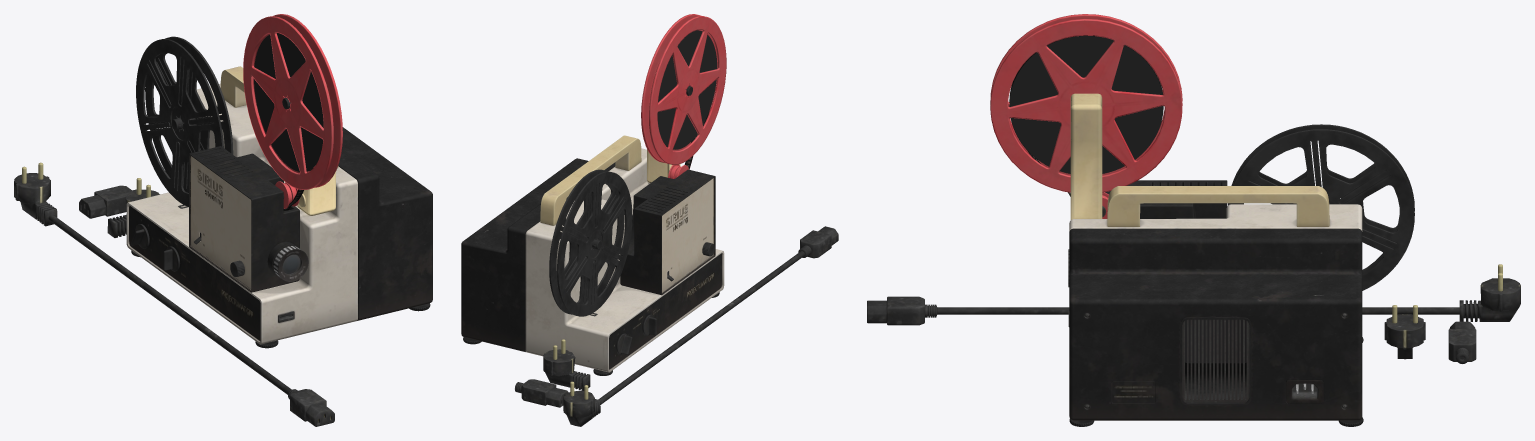
The model's file is ph_filmstrip_projector_8mm.glb.
The picture shows the model from 3 angles, left to right: view 1: azimuth 30°, elevation 25°; view 2: azimuth 150°, elevation 25°; view 3: azimuth 270°, elevation 25°; orthographic projection. The views are drawn at different scales.
Visible parts, largest first — view 1: ph_filmstrip_projector_8mm; view 2: ph_filmstrip_projector_8mm; view 3: ph_filmstrip_projector_8mm.
Part boxes in pixels (x1,y1,x2,y2): ph_filmstrip_projector_8mm: [14, 14, 432, 426]; ph_filmstrip_projector_8mm: [461, 14, 838, 426]; ph_filmstrip_projector_8mm: [867, 14, 1520, 426].
Size of the model in its own units: 0.2537 by 0.3454 by 0.6026.
2 materials, 2 textured.
